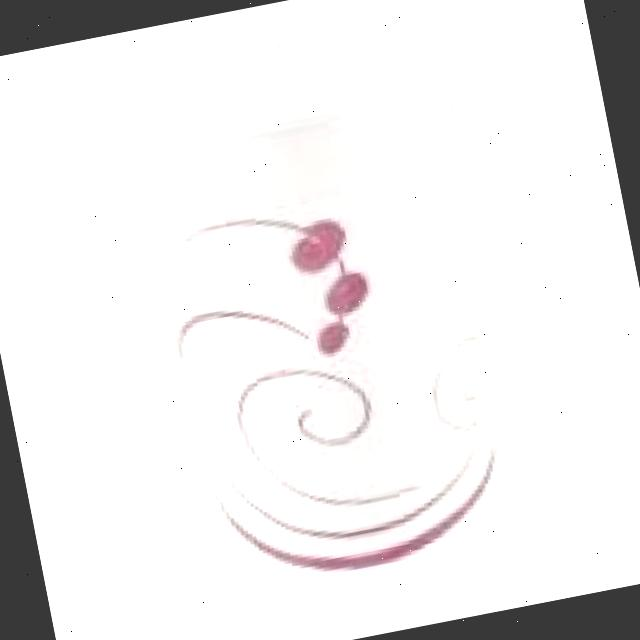trash: (81, 0, 582, 640)
